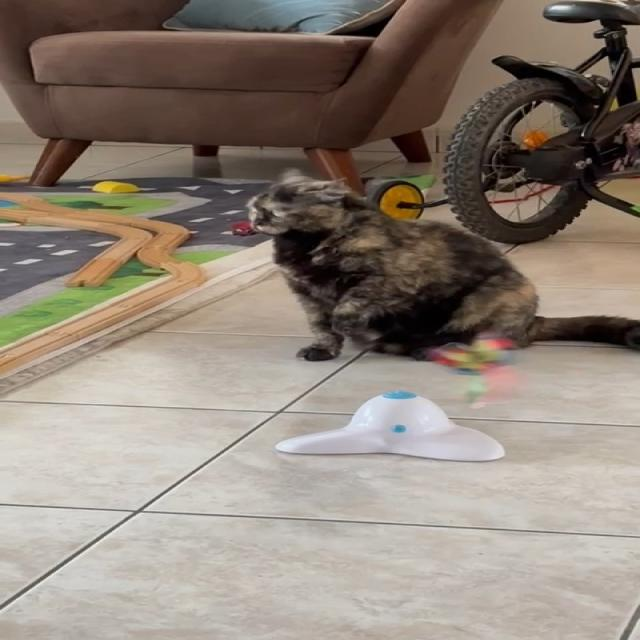authorized: (244, 167, 639, 362)
